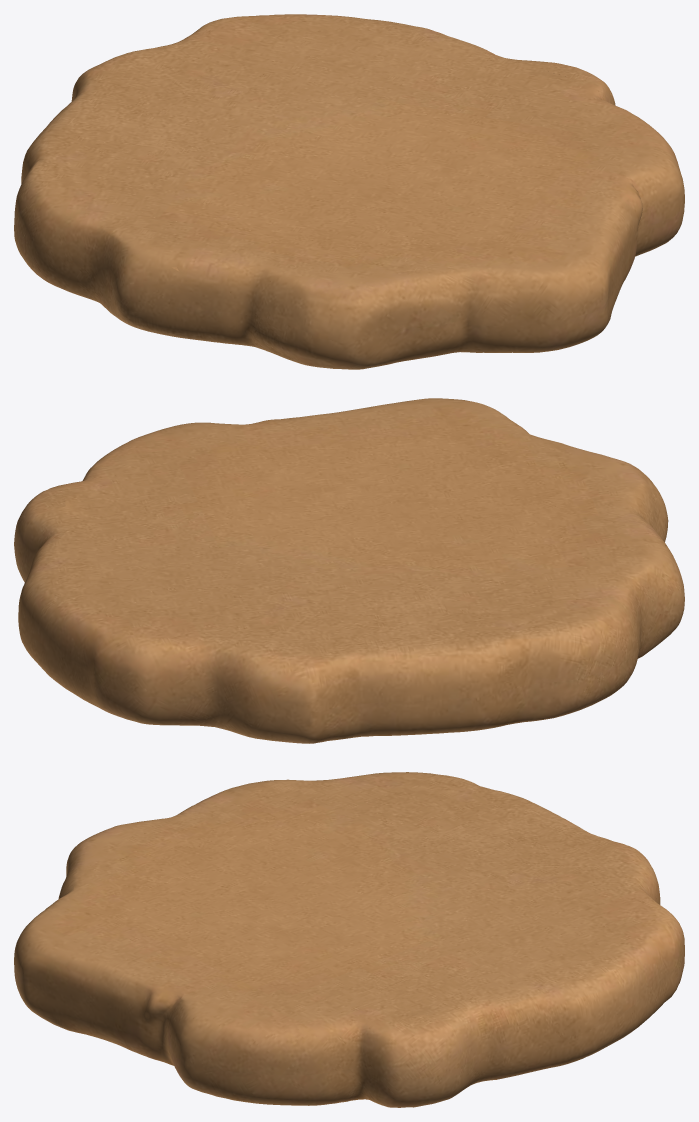
The picture shows the model from 3 angles, top to bottom: view 1: azimuth 30°, elevation 25°; view 2: azimuth 150°, elevation 25°; view 3: azimuth 270°, elevation 25°; orthographic projection. The views are drawn at different scales.
Parts seen in each view (by area): view 1: garden-stone; view 2: garden-stone; view 3: garden-stone.
Boxes of the visible parts, box(x1,y1,x2,y2) form: garden-stone: box(14, 14, 684, 369); garden-stone: box(14, 398, 684, 743); garden-stone: box(14, 772, 684, 1107).
Size of the model in its own units: 0.476 by 0.0766 by 0.4998.
Materials: 1 (1 with a texture image).
